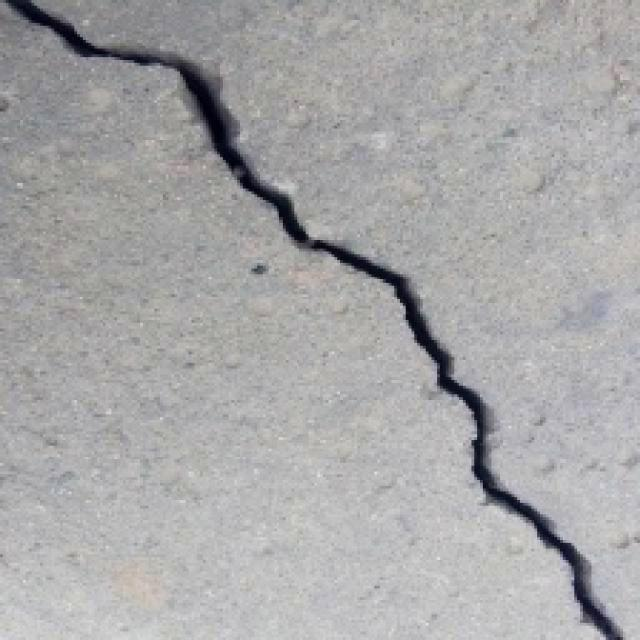SurfaceCrack: (14, 4, 632, 638)
